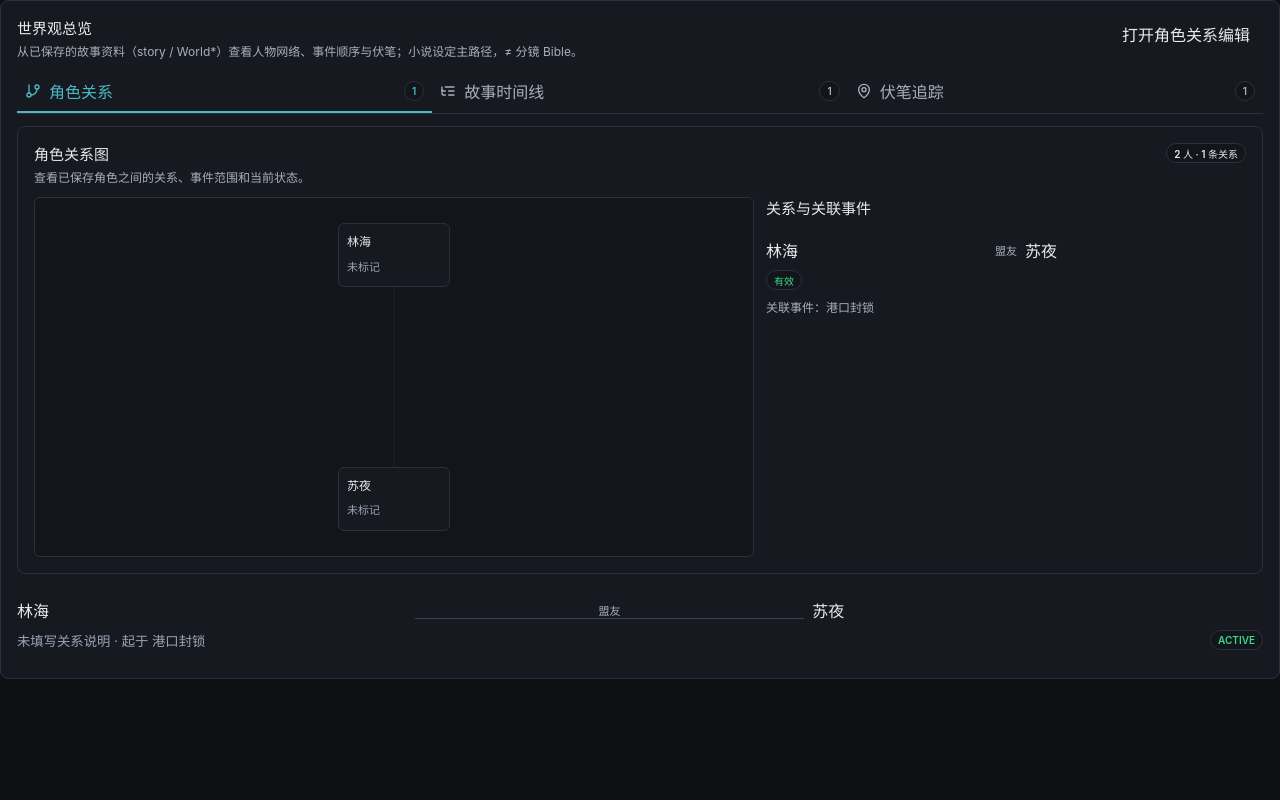
WorldBuildingDashboard › shows planted chapter, linked events and resolved status without inventing appearances
Click the tab "伏笔追踪 1": point(912, 92) 848,71 -> 1263,113
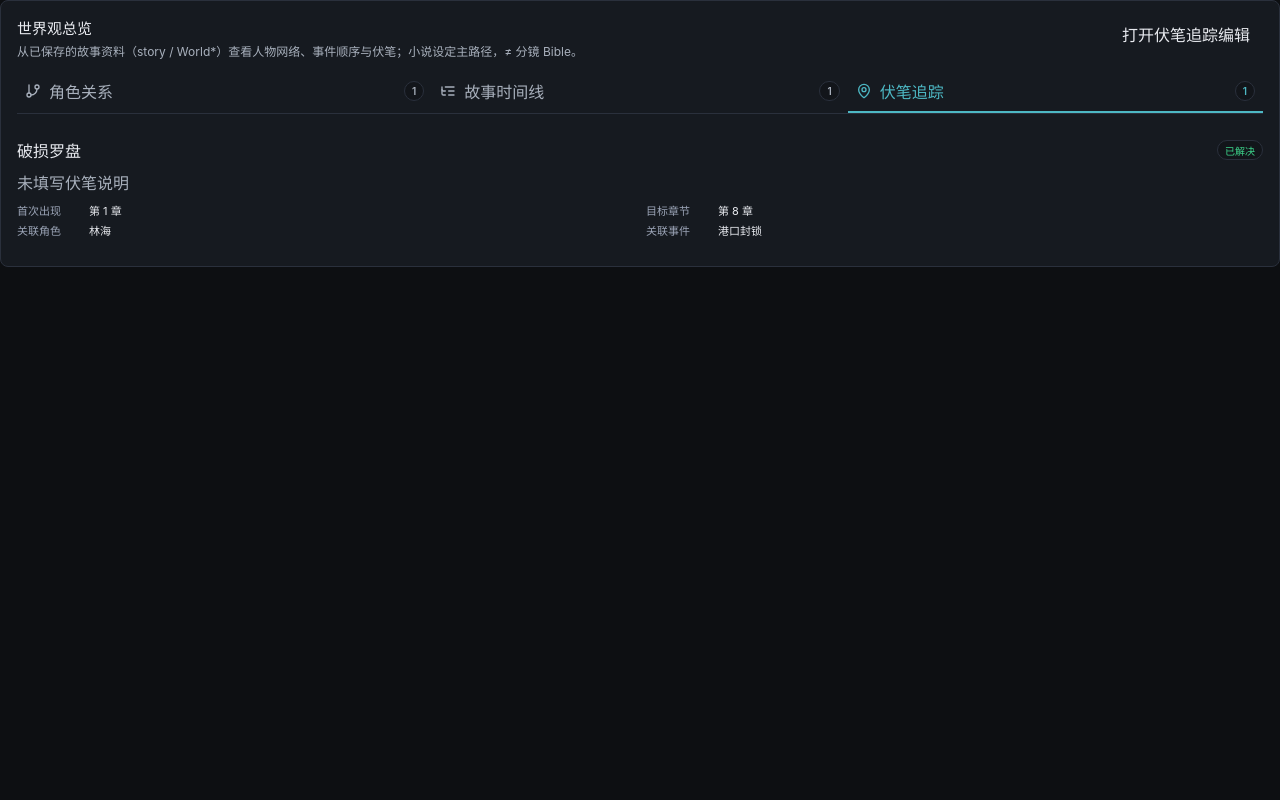
Expected: the text "港口封锁" is shown, 718,224 -> 762,238
Now the text "第 1 章" is shown, box 89,204 -> 122,218
Now the text "已解决" is shown, box 1217,140 -> 1263,160
